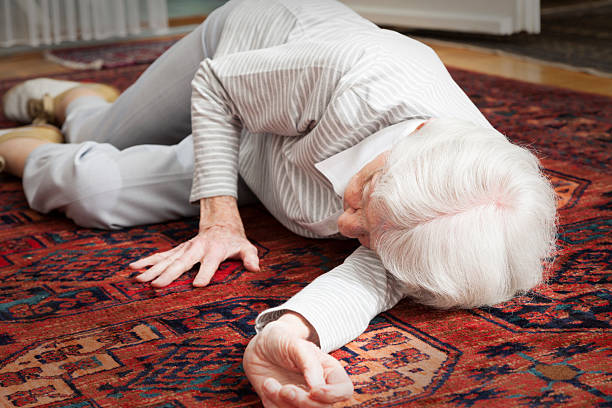collapsed: (3, 4, 572, 408)
